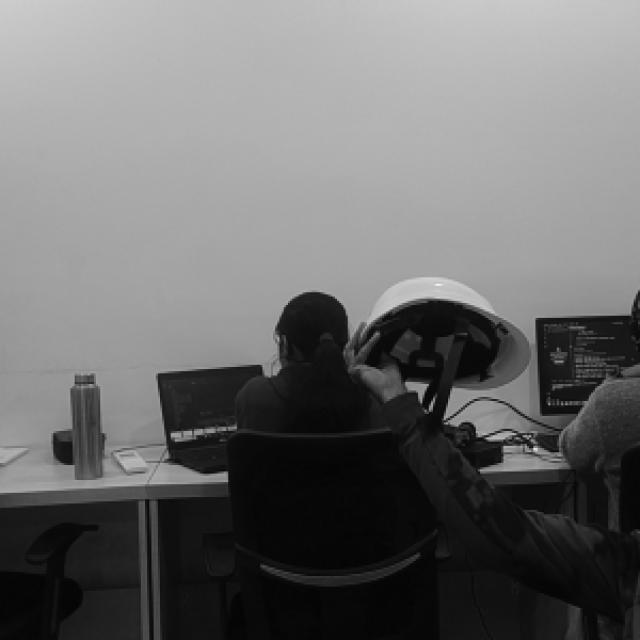safety_helmet: (361, 276, 531, 392)
